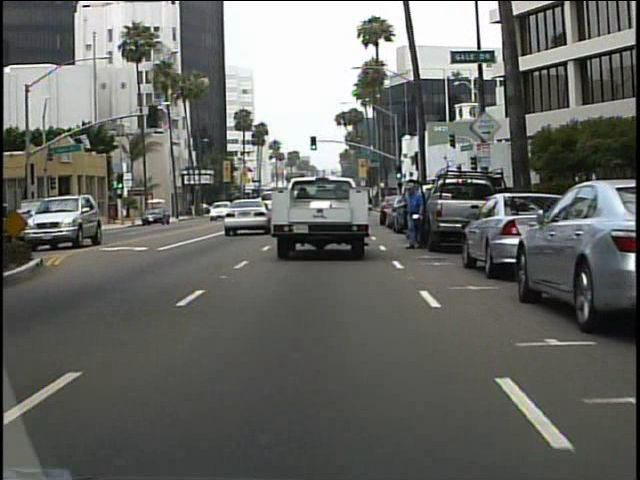person: (400, 181, 426, 249)
